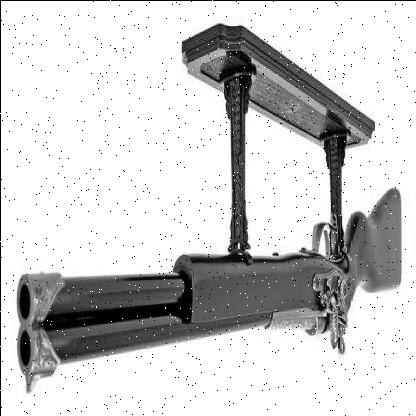rifle: (9, 173, 410, 411)
